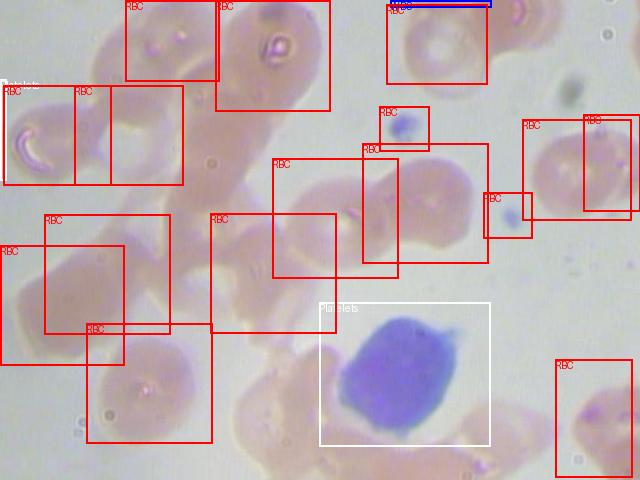Platelets: (319, 302, 490, 446), (0, 79, 6, 180)
RBC: (362, 143, 488, 263), (272, 158, 398, 278), (210, 213, 336, 333), (86, 323, 212, 443), (44, 214, 170, 334), (0, 245, 124, 365), (215, 0, 330, 111), (522, 119, 631, 220), (74, 85, 183, 185), (3, 85, 111, 185), (555, 359, 632, 477), (386, 4, 487, 84), (125, 0, 219, 81), (583, 114, 640, 211), (483, 192, 532, 238), (379, 106, 429, 151)
WBC: (390, 0, 491, 7)
